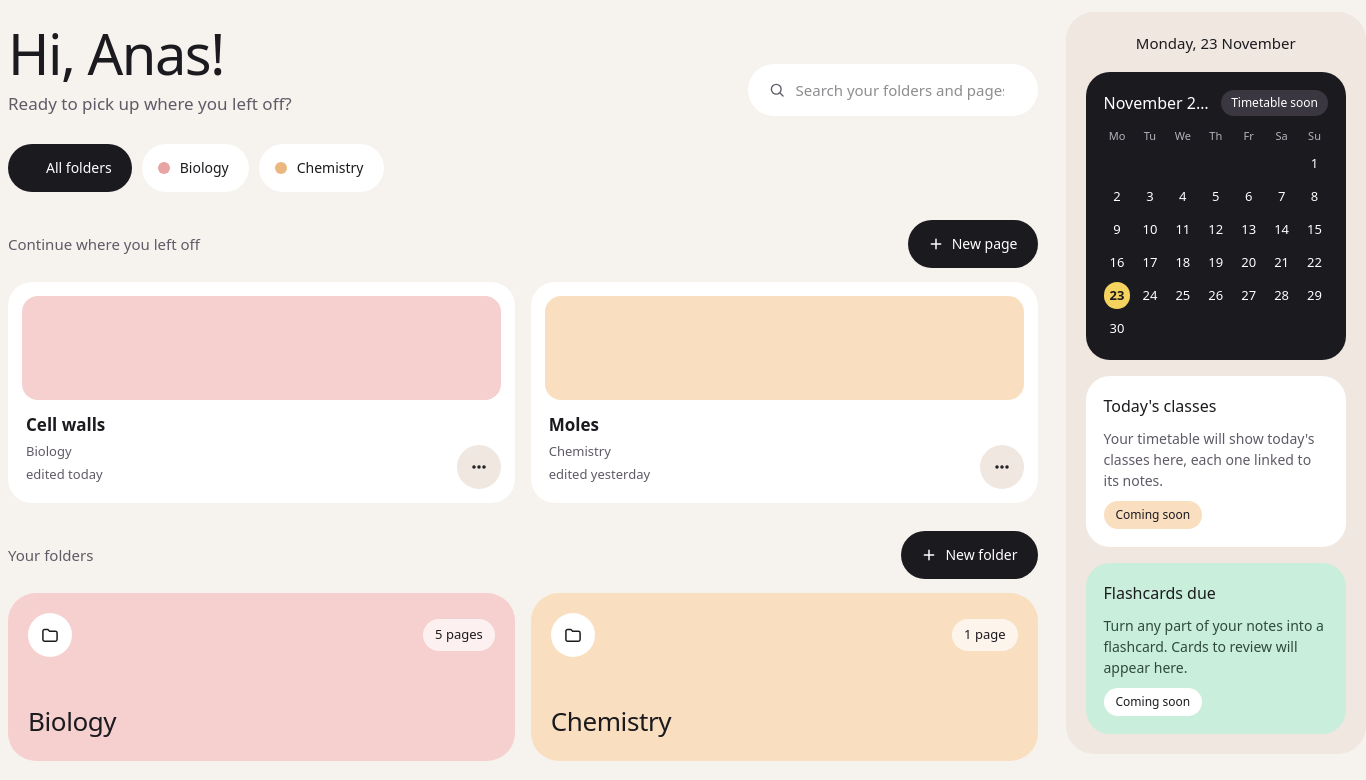
it: Dashboard › search filters by name
In the search field labelled "Search your folders and pages": (906, 90) [796,79,1018,102], type "cell"
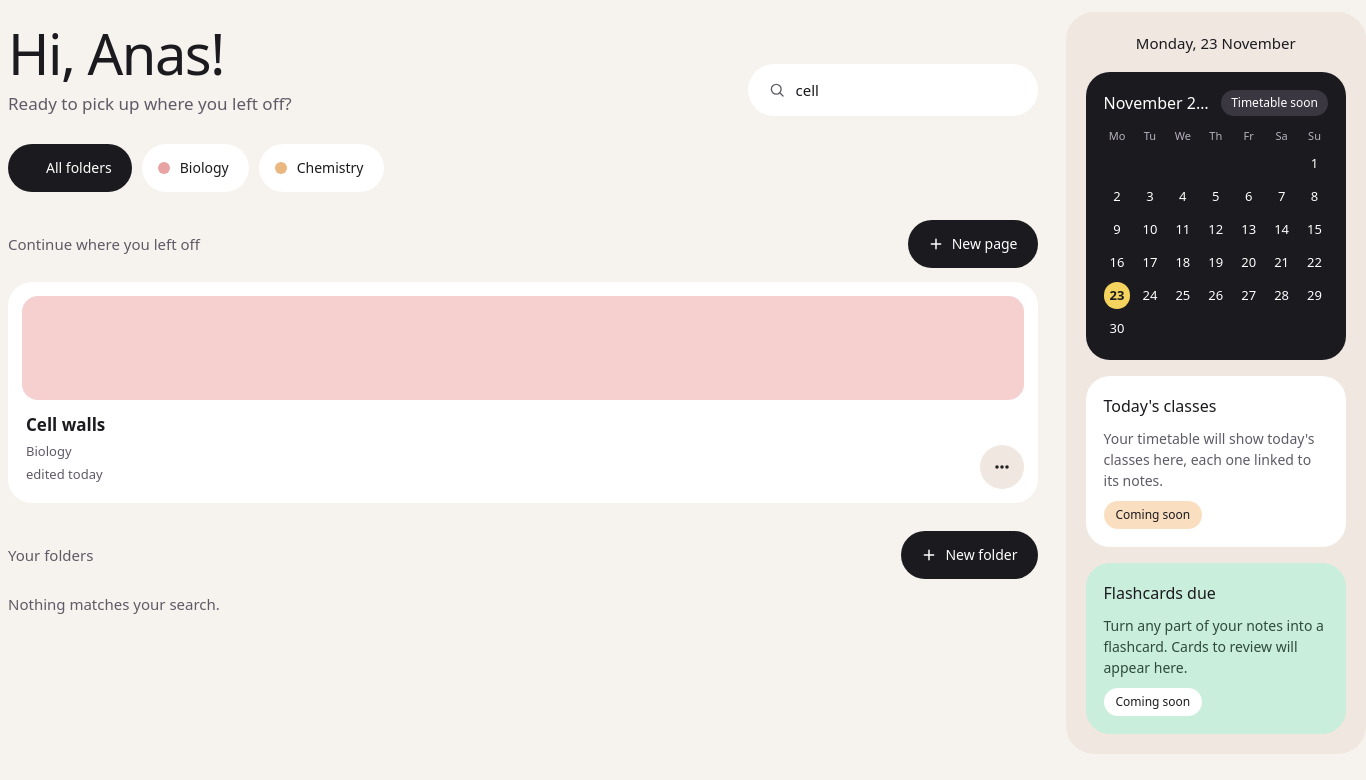
Expected: the link "Cell walls Biology edited today" is shown, [22,296,1024,489]
Now the link "Moles" is gone
Replace the text in the search field with "zzz": (906, 90) [796,79,1018,102]
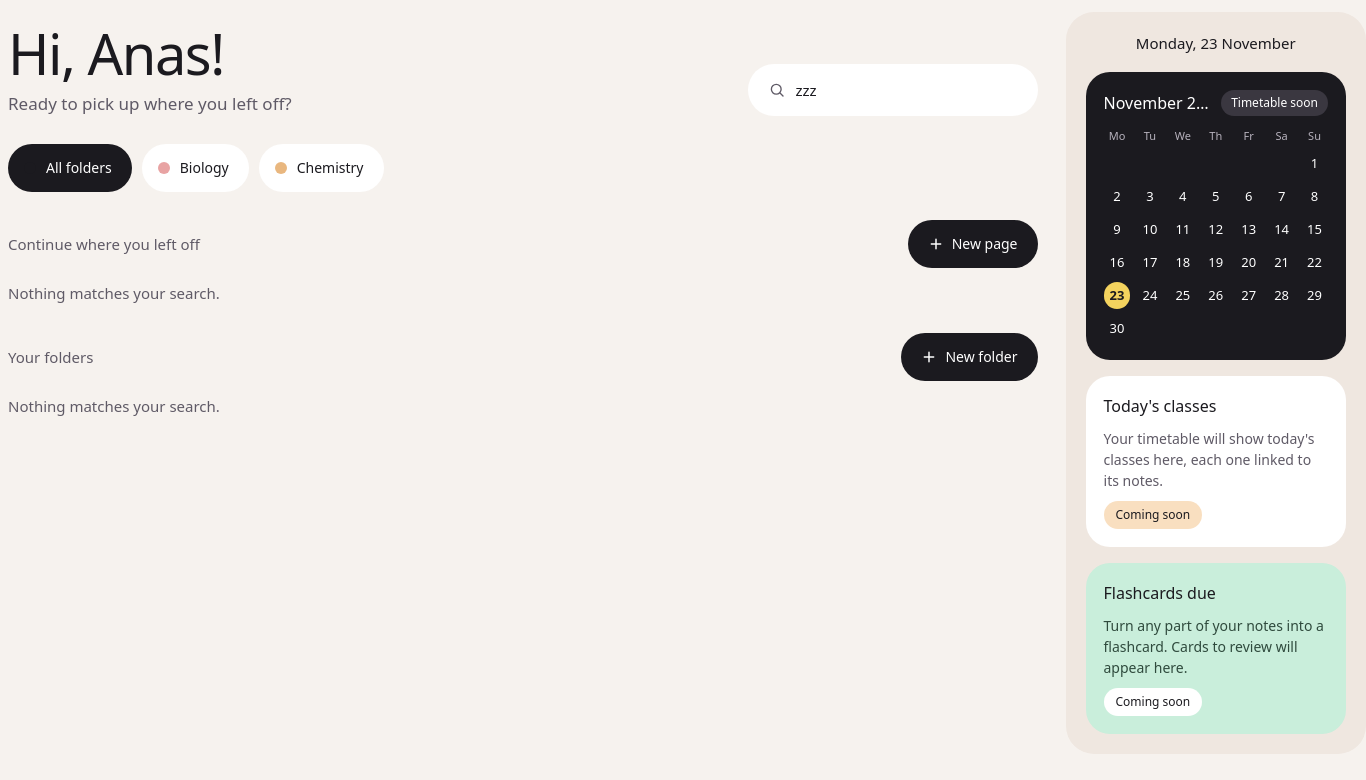
Now the text "Nothing matches your search." is shown 2 times, box [8,283,220,303]; [8,396,220,416]
